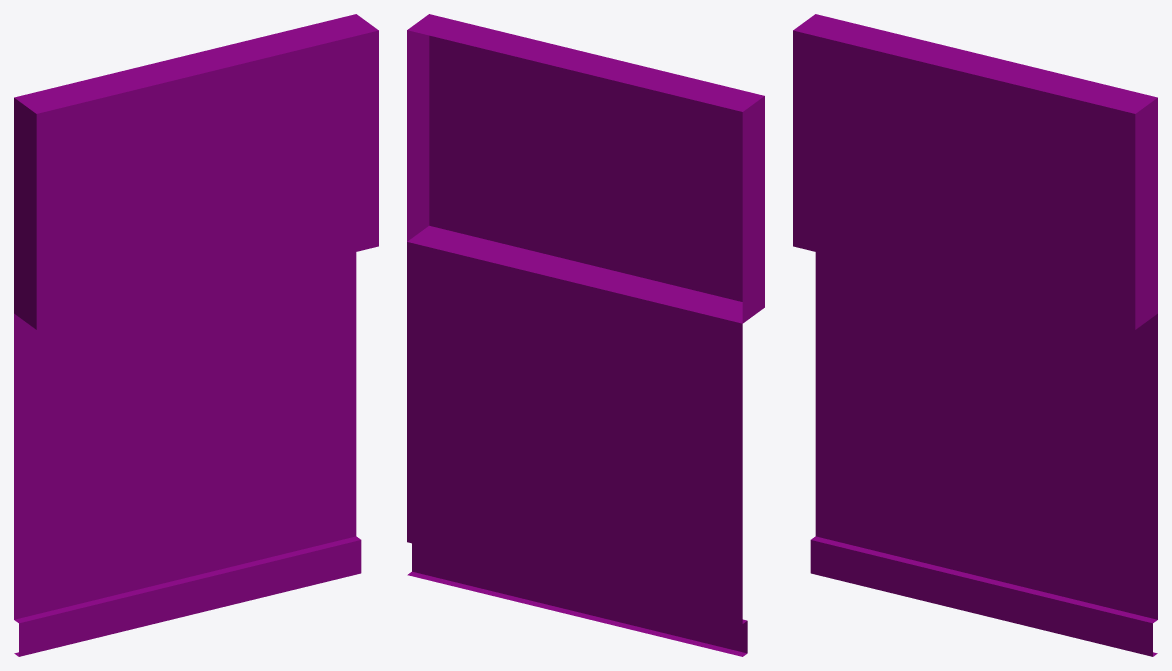
File: Wall.FBX
3 renders of one model, left to right at view 1: azimuth 30°, elevation 25°; view 2: azimuth 150°, elevation 25°; view 3: azimuth 330°, elevation 25°, orthographic. The views are drawn at different scales.
Parts seen in each view (by area): view 1: ENV_WallPiece_1; view 2: ENV_WallPiece_1; view 3: ENV_WallPiece_1.
Boxes of the visible parts, left/top/right/bottom form: ENV_WallPiece_1: left=14, top=14, right=378, bottom=656; ENV_WallPiece_1: left=407, top=14, right=764, bottom=656; ENV_WallPiece_1: left=793, top=14, right=1157, bottom=656.
Bounding box in the file's own units: 207 × 321 × 23.58.
